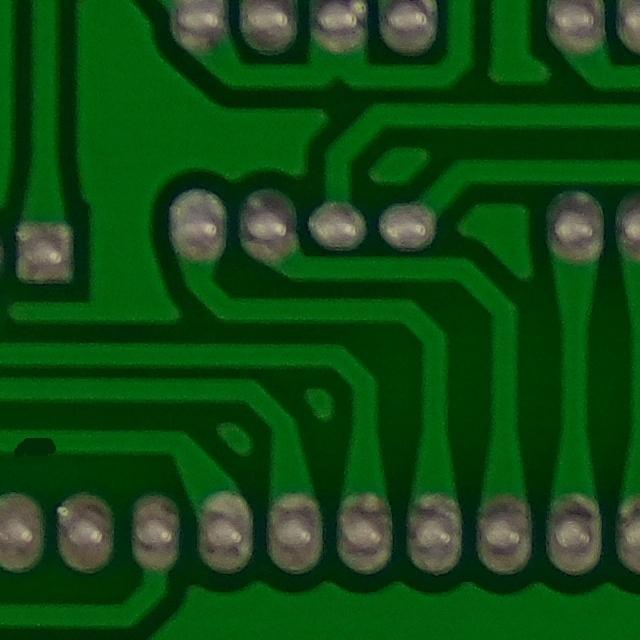mouse_bite: (0, 417, 71, 472)
